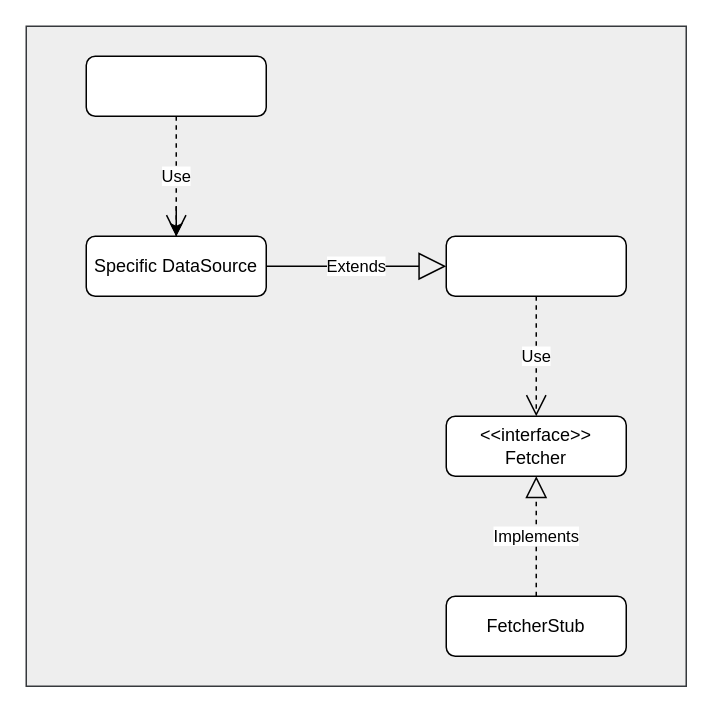
Image size: 713x713. Some labels were removed from this diagram. Each missing label, with the centre of its shape:
"Resolver" goes at [175,85].
"RESTDataSource" goes at [535,265].
